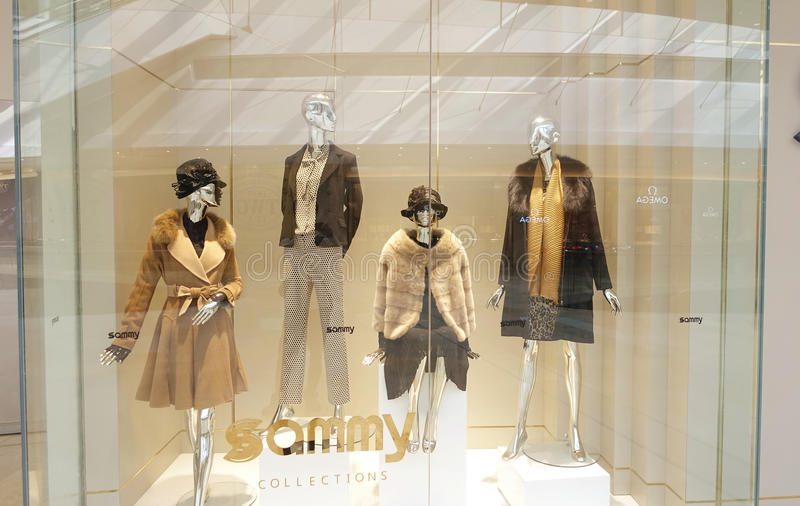person-like: (95, 154, 254, 506), (481, 111, 625, 467), (255, 88, 369, 442), (357, 180, 483, 458)
